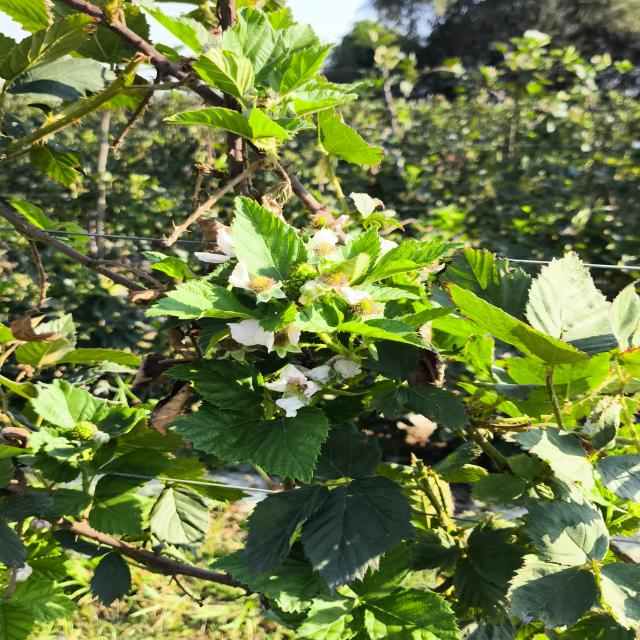flor: (265, 364, 321, 417), (229, 320, 274, 352), (332, 356, 361, 378)
verde: (287, 263, 317, 297)
